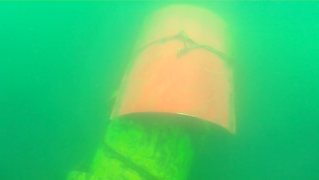leak: (108, 5, 236, 134)
pipe: (66, 114, 213, 180)
